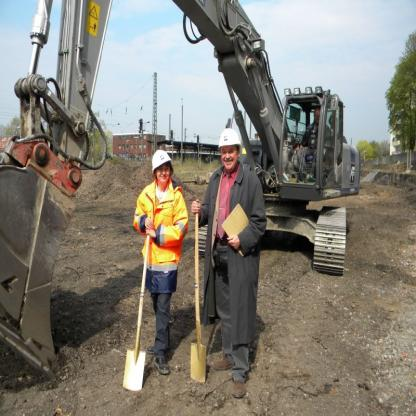person: (192, 107, 262, 398), (132, 134, 178, 386)
